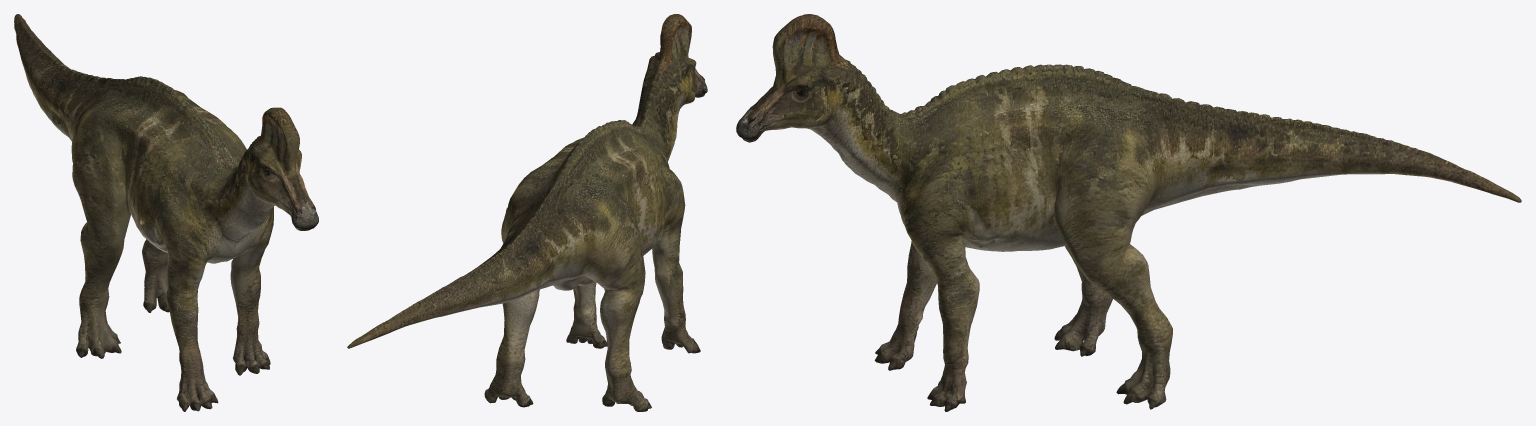
Rendered from corythosaurus.glb.
The picture shows the model from 3 angles, left to right: view 1: azimuth 30°, elevation 25°; view 2: azimuth 150°, elevation 25°; view 3: azimuth 270°, elevation 25°; orthographic projection. The views are drawn at different scales.
Parts seen in each view (by area): view 1: dino; view 2: dino; view 3: dino.
Part boxes in pixels (box(x1,y1,x2,y2)): dino: box(14, 14, 318, 411); dino: box(347, 14, 707, 411); dino: box(736, 14, 1521, 411).
Size of the model in its own units: 2.2 by 4.68 by 9.
1 material, 1 textured.
